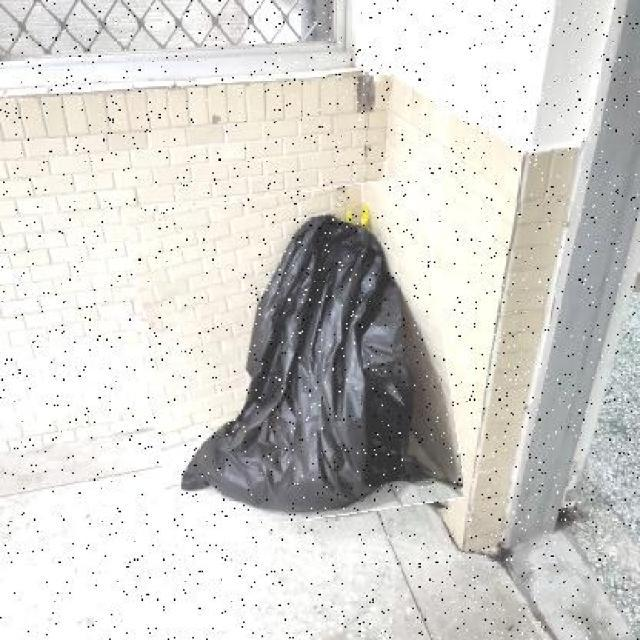waste: (137, 185, 456, 528)
